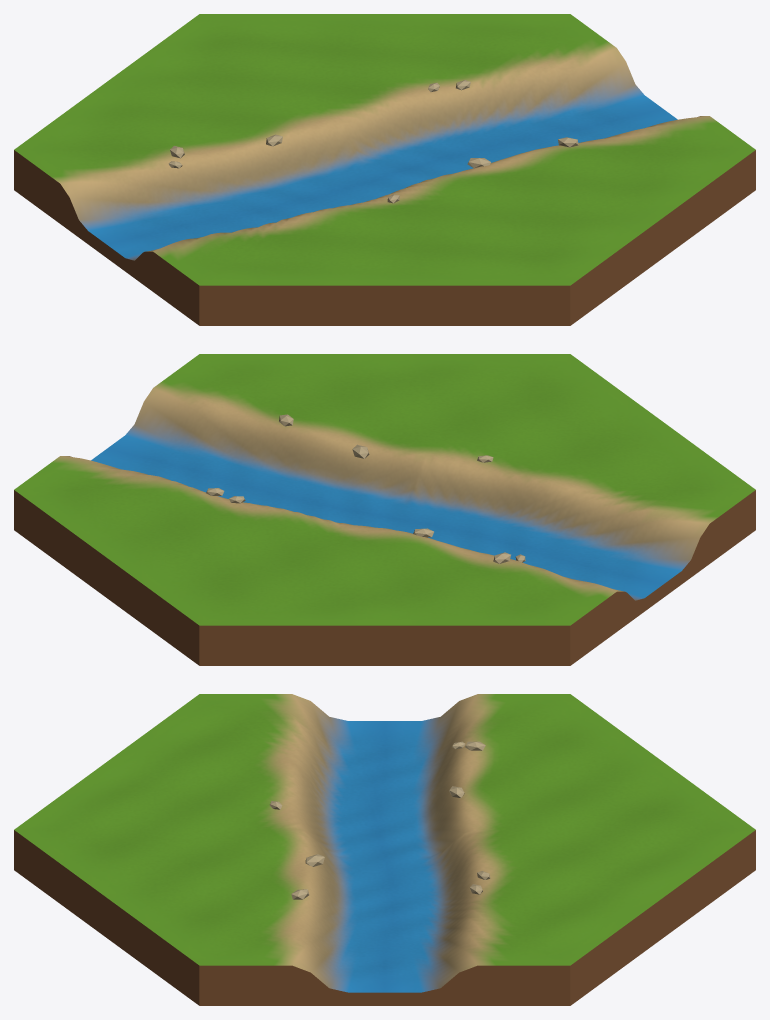
The model's file is SM_Agua_RioRecto_LOD0.fbx.
The picture shows the model from 3 angles, top to bottom: view 1: azimuth 30°, elevation 25°; view 2: azimuth 150°, elevation 25°; view 3: azimuth 270°, elevation 25°; orthographic projection.
Parts seen in each view (by area): view 1: SM_Agua_RioRecto_LOD0; view 2: SM_Agua_RioRecto_LOD0; view 3: SM_Agua_RioRecto_LOD0.
Boxes of the visible parts, x1,y1,x2,y2 form: SM_Agua_RioRecto_LOD0: [14, 14, 755, 325]; SM_Agua_RioRecto_LOD0: [14, 354, 755, 665]; SM_Agua_RioRecto_LOD0: [14, 694, 755, 1005].
Bounding box in the file's own units: 1.73 × 0.1458 × 2.
Materials: 1 (1 with a texture image).
